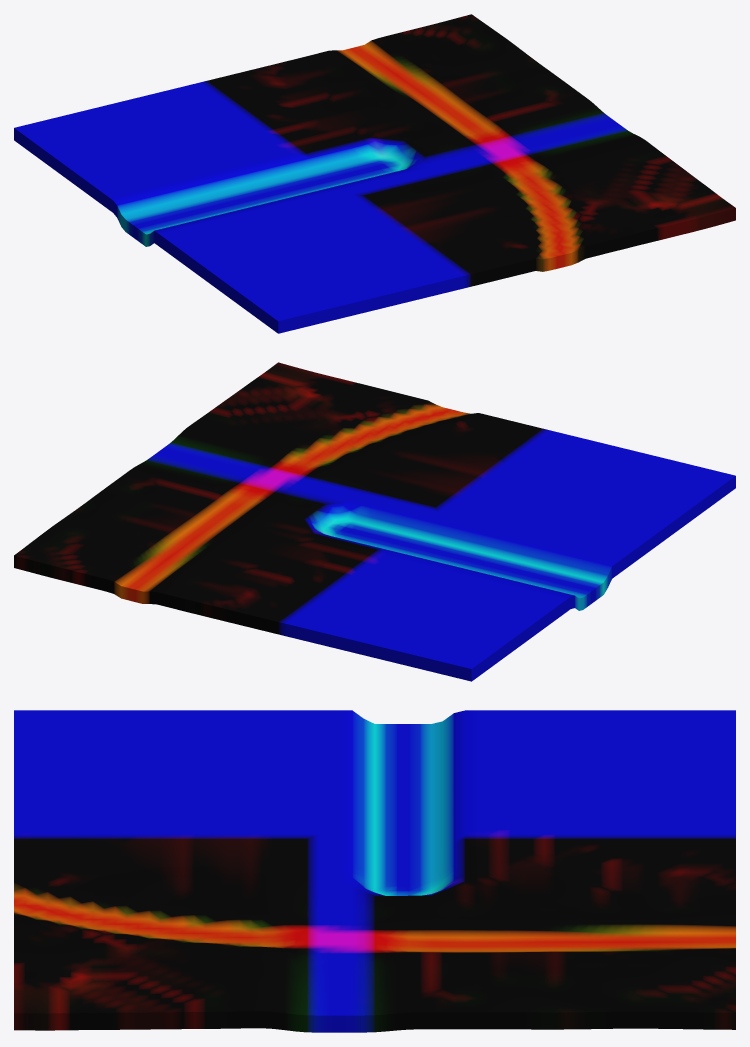
The model's file is Terrain_04_02.fbx.
3 views of the same model, one above another, from view 1: azimuth 30°, elevation 25°; view 2: azimuth 150°, elevation 25°; view 3: azimuth 270°, elevation 25° (orthographic). The views are drawn at different scales.
Parts seen in each view (by area): view 1: Terrain_04_02_LOD0; view 2: Terrain_04_02_LOD0; view 3: Terrain_04_02_LOD0.
Boxes of the visible parts, box(x1,y1,x2,y2) form: Terrain_04_02_LOD0: box(14, 14, 735, 333); Terrain_04_02_LOD0: box(14, 362, 735, 681); Terrain_04_02_LOD0: box(14, 710, 735, 1032).
Size of what is drawn, in the model's own units: 384 by 20.53 by 384.
